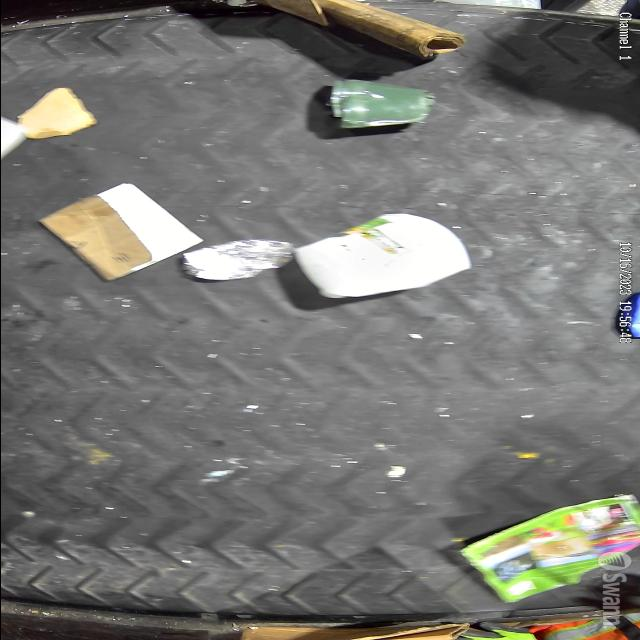can: (180, 228, 298, 284), (320, 78, 444, 130)
milk_jug: (293, 212, 469, 304)
